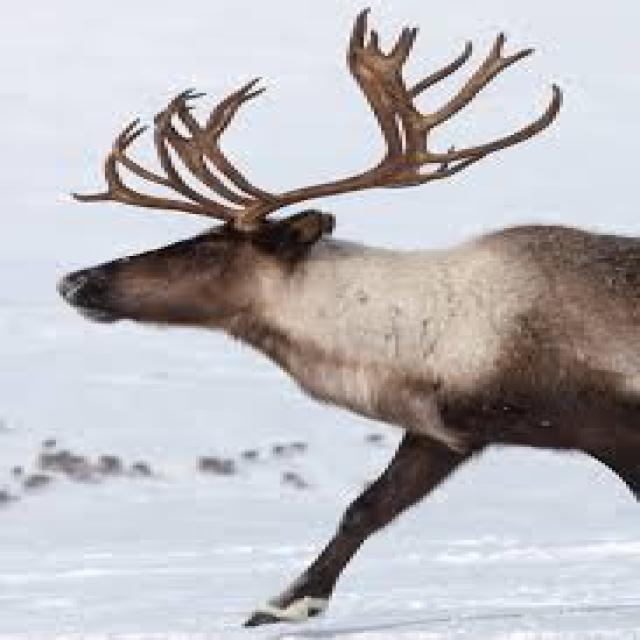Reindeer: (53, 7, 640, 630)
